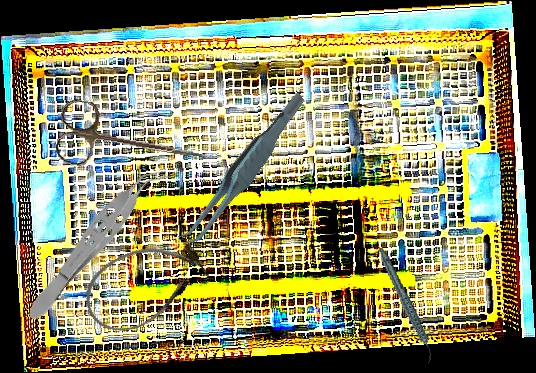Cannula: (72, 225, 218, 345)
Handpiece: (377, 242, 435, 368)
Iris Scissors: (53, 97, 213, 186)
Tissue Forceps: (153, 90, 332, 251), (19, 155, 172, 329)
